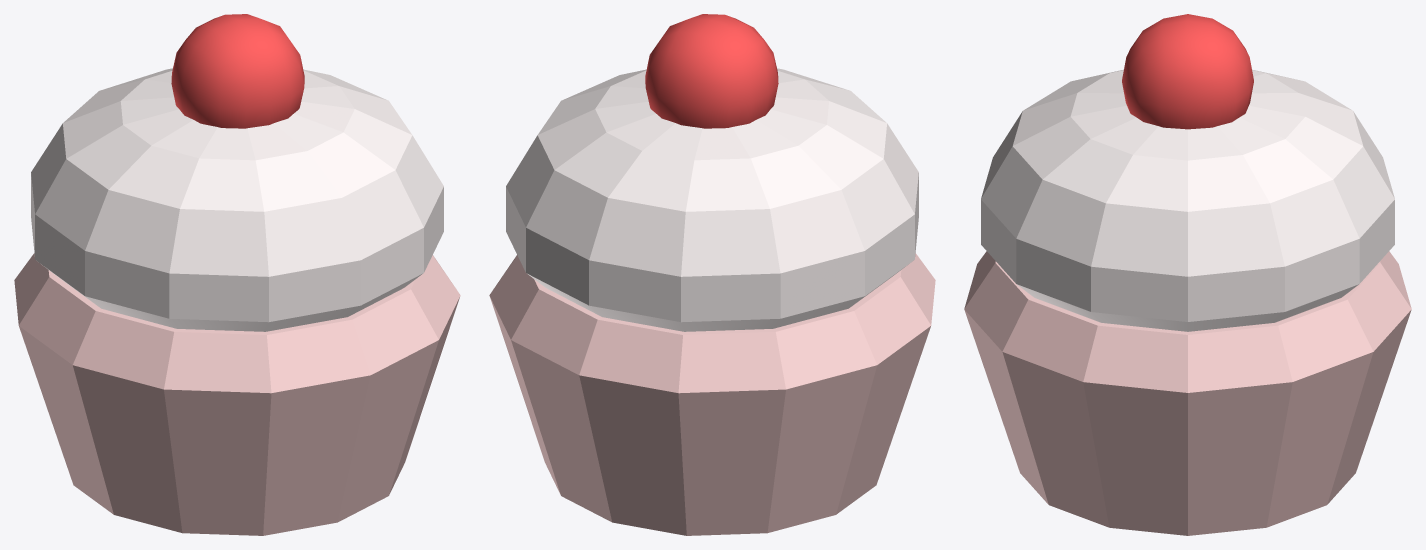
The model's file is Cupcake_pink.fbx.
3 views of the same model, side by side, from view 1: azimuth 30°, elevation 25°; view 2: azimuth 150°, elevation 25°; view 3: azimuth 270°, elevation 25° (orthographic).
Visible parts, largest first — view 1: polySurface762; view 2: polySurface762; view 3: polySurface762.
Boxes of the visible parts, x1,y1,x2,y2 form: polySurface762: [14, 14, 460, 535]; polySurface762: [489, 14, 935, 535]; polySurface762: [964, 14, 1411, 535].
Size of the model in its own units: 10.45 by 11.53 by 10.53.
